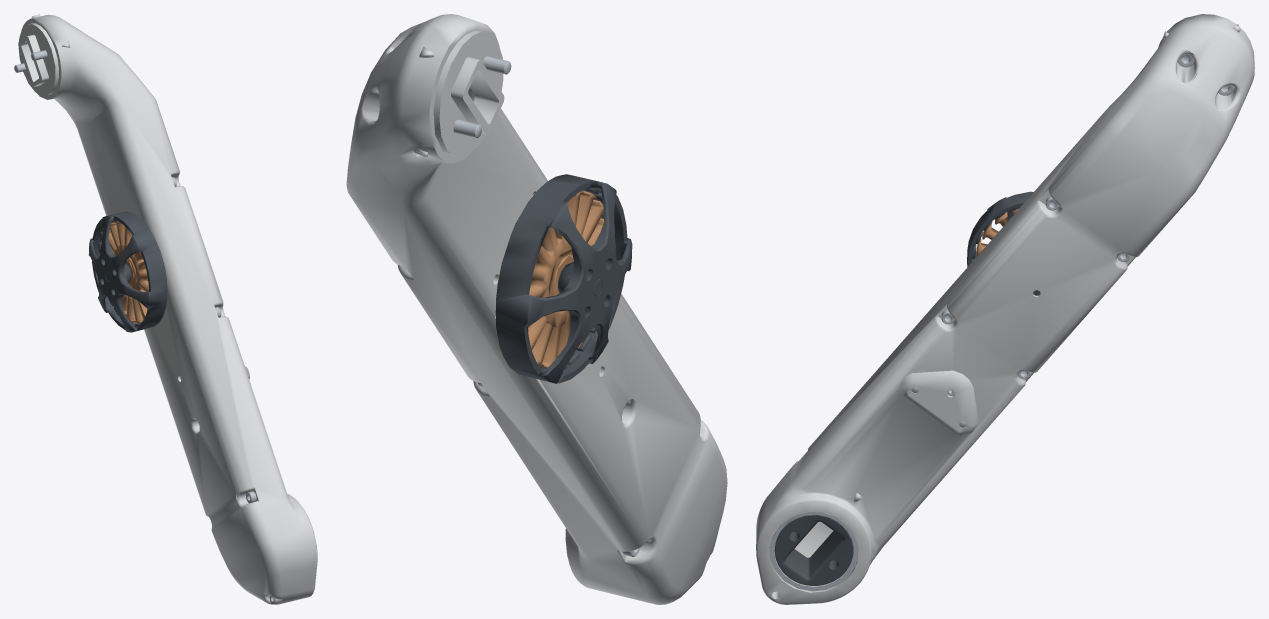
The model's file is right_thigh_LOD0.fbx.
3 renders of one model, left to right at view 1: azimuth 30°, elevation 25°; view 2: azimuth 150°, elevation 25°; view 3: azimuth 270°, elevation 25°, orthographic. The views are drawn at different scales.
Visible parts, largest first — view 1: MM_bolt_upper_leg_200mm_c41d56d99e, MM_bolt_motor_antigravity_4004_rotor_cb681c6a78, MM_bolt_motor_antigravity_4004_stator_ba4e7a91ba; view 2: MM_bolt_upper_leg_200mm_c41d56d99e, MM_bolt_motor_antigravity_4004_rotor_cb681c6a78, MM_bolt_motor_antigravity_4004_stator_ba4e7a91ba; view 3: MM_bolt_upper_leg_200mm_c41d56d99e, MM_bolt_transmission_pulley_at3_t30_output_aaa869849f, MM_bolt_bearing_32_25_4_sbn_61705rs_d5a9ecc51f, MM_bolt_motor_antigravity_4004_rotor_cb681c6a78.
Boxes of the visible parts, x1=… form: MM_bolt_upper_leg_200mm_c41d56d99e: x1=18, y1=14, x2=317, y2=604; MM_bolt_motor_antigravity_4004_rotor_cb681c6a78: x1=88, y1=211, x2=167, y2=332; MM_bolt_motor_antigravity_4004_stator_ba4e7a91ba: x1=108, y1=221, x2=148, y2=323; MM_bolt_upper_leg_200mm_c41d56d99e: x1=346, y1=14, x2=727, y2=604; MM_bolt_motor_antigravity_4004_rotor_cb681c6a78: x1=495, y1=174, x2=632, y2=383; MM_bolt_motor_antigravity_4004_stator_ba4e7a91ba: x1=495, y1=190, x2=604, y2=367; MM_bolt_upper_leg_200mm_c41d56d99e: x1=756, y1=14, x2=1254, y2=604; MM_bolt_transmission_pulley_at3_t30_output_aaa869849f: x1=774, y1=515, x2=853, y2=585; MM_bolt_bearing_32_25_4_sbn_61705rs_d5a9ecc51f: x1=769, y1=511, x2=858, y2=591; MM_bolt_motor_antigravity_4004_rotor_cb681c6a78: x1=967, y1=191, x2=1033, y2=266.
Bounding box in the file's own units: 0.044 × 0.1908 × 0.1589.
